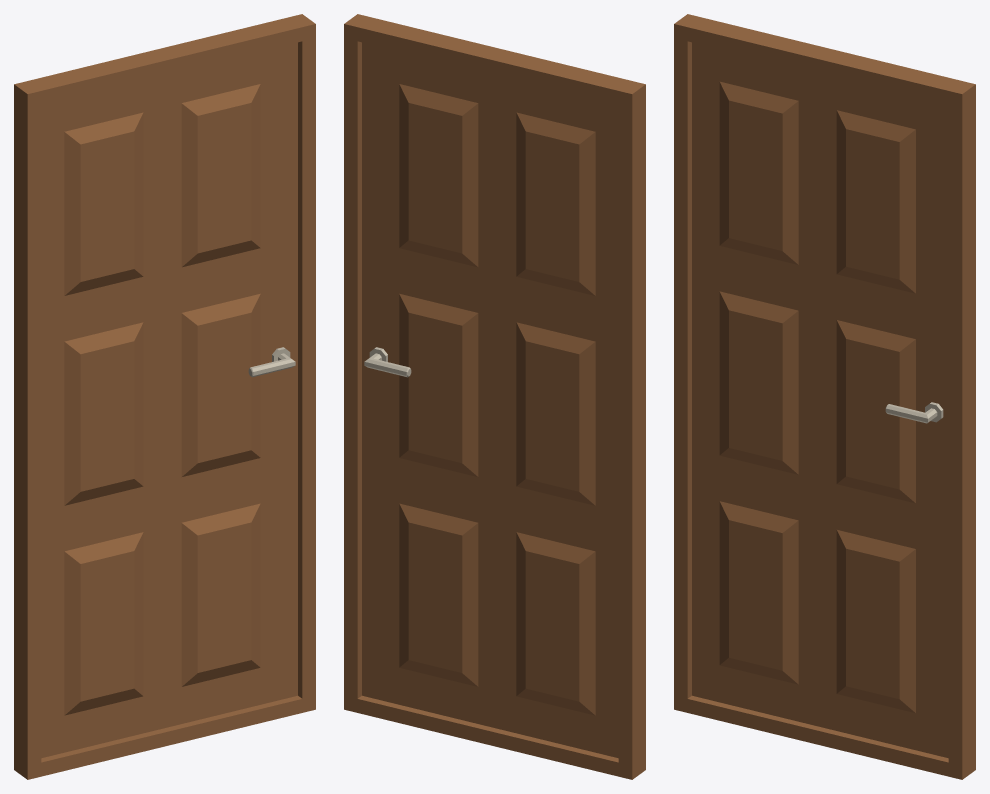
The model's file is Mesh_Door_A08.fbx.
3 views of the same model, side by side, from view 1: azimuth 30°, elevation 25°; view 2: azimuth 150°, elevation 25°; view 3: azimuth 330°, elevation 25° (orthographic).
Parts seen in each view (by area): view 1: Mesh_Door_A08; view 2: Mesh_Door_A08; view 3: Mesh_Door_A08.
Boxes of the visible parts, <box> form: Mesh_Door_A08: <box>14,14,315,779</box>; Mesh_Door_A08: <box>344,14,645,779</box>; Mesh_Door_A08: <box>674,14,975,779</box>.
Size of the model in its own units: 0.9 by 2.05 by 0.1482.
